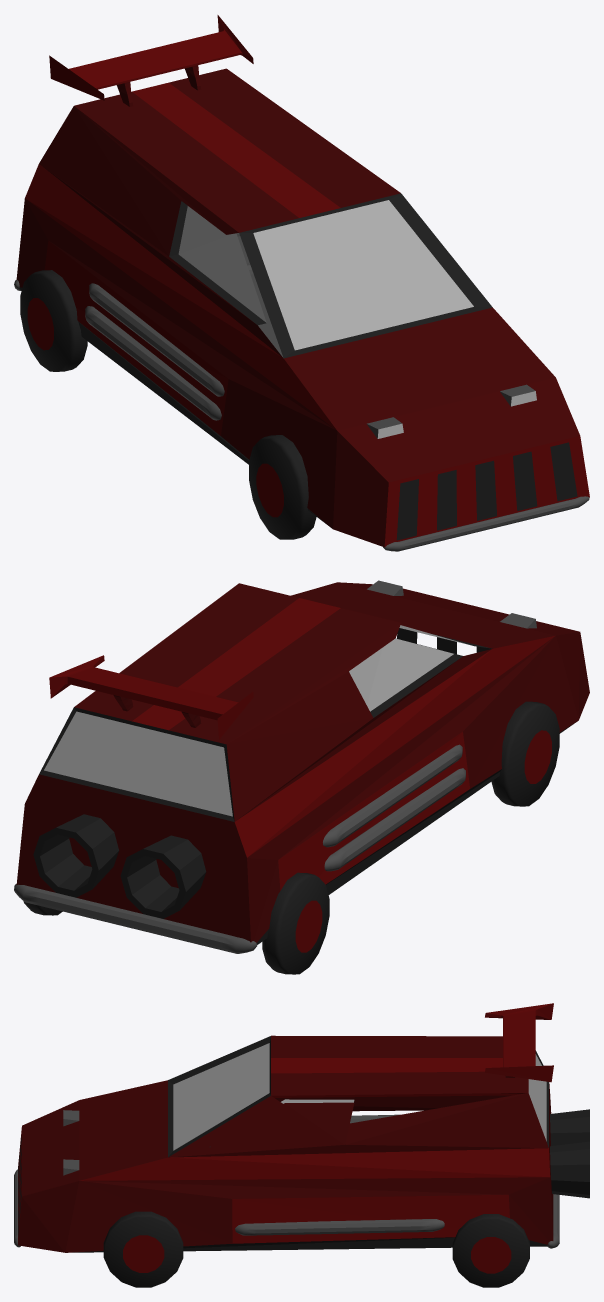
File: car1_re.fbx
3 renders of one model, top to bottom at view 1: azimuth 30°, elevation 25°; view 2: azimuth 150°, elevation 25°; view 3: azimuth 270°, elevation 25°, orthographic. The views are drawn at different scales.
Parts seen in each view (by area): view 1: Car, Spoiler, FLW, RLW, pCylinder4, pCylinder3, pCylinder6; view 2: Car, FLW, Spoiler, RLW, Rthrust, Lthrust, pCylinder5, pCylinder4, pCylinder3; view 3: Car, FRW, RRW, Spoiler, pCylinder2, Lthrust, Rthrust, pCylinder5.
Part boxes in pixels (box(x1,y1,x2,y2)): Car: box(16, 68, 589, 547); Spoiler: box(49, 15, 253, 106); FLW: box(249, 435, 316, 539); RLW: box(20, 270, 87, 371); pCylinder4: box(85, 306, 221, 420); pCylinder3: box(89, 283, 224, 396); pCylinder6: box(383, 496, 589, 551); Car: box(16, 580, 589, 944); FLW: box(491, 701, 559, 806); Spoiler: box(49, 655, 253, 739); RLW: box(262, 872, 329, 974); Rthrust: box(120, 835, 206, 918); Lthrust: box(33, 814, 119, 897); pCylinder5: box(14, 884, 256, 953); pCylinder4: box(324, 768, 465, 871); pCylinder3: box(323, 744, 462, 847); Car: box(18, 1035, 553, 1252); FRW: box(103, 1211, 183, 1287); RRW: box(452, 1214, 529, 1287); Spoiler: box(485, 1003, 553, 1082); pCylinder2: box(235, 1219, 444, 1235); Lthrust: box(550, 1141, 589, 1198); Rthrust: box(550, 1109, 589, 1145); pCylinder5: box(547, 1194, 559, 1248).
Bounding box in the file's own units: 3.69 × 3.59 × 9.07.
